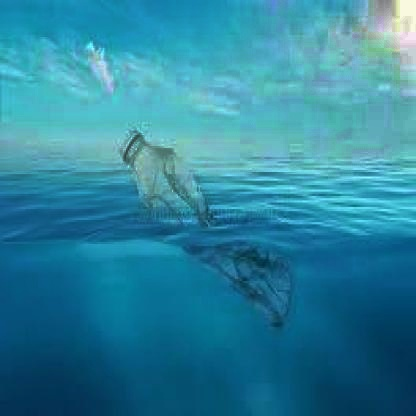pbottle: (110, 116, 298, 334)
